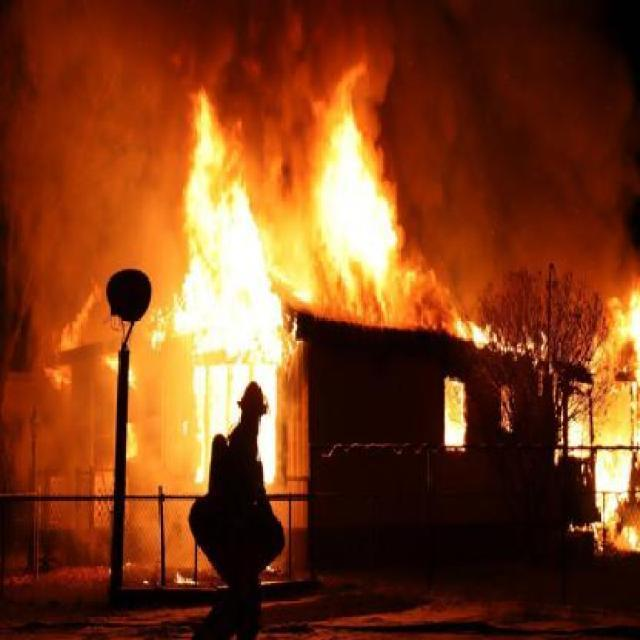Fire: (163, 85, 294, 384), (308, 66, 408, 285)
